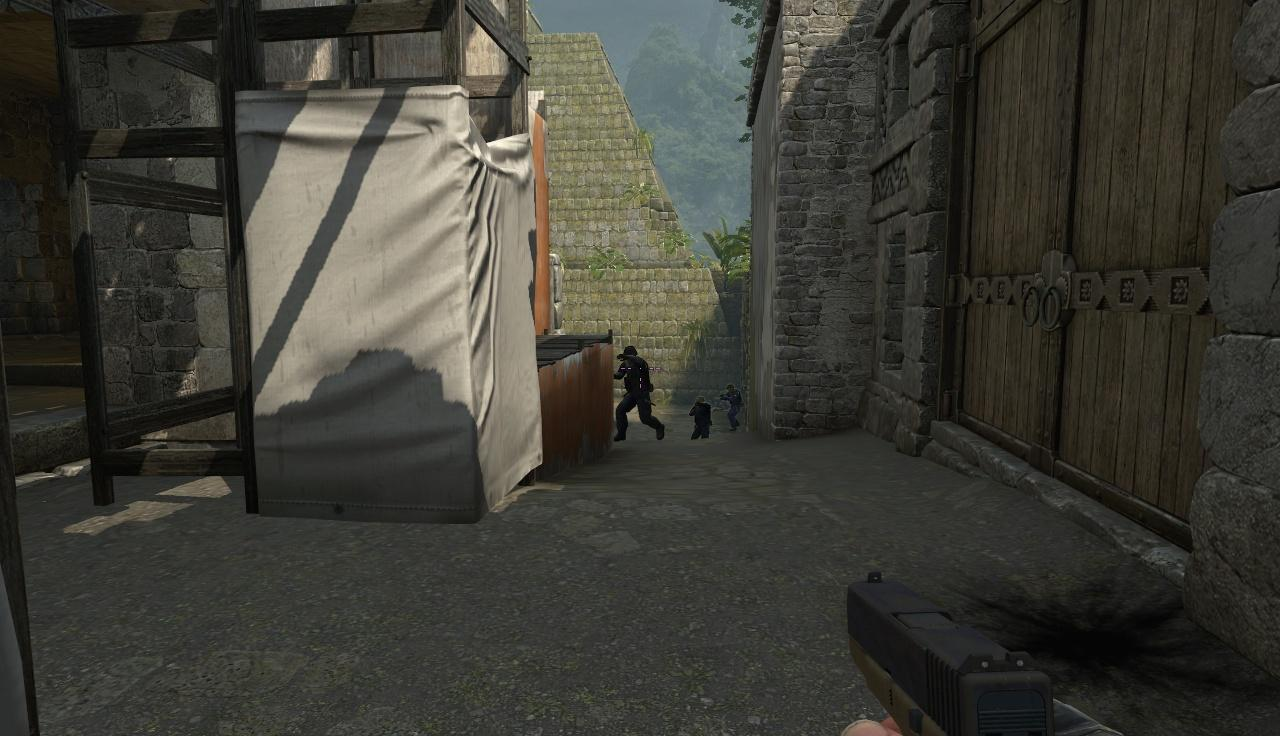ct: (612, 345, 651, 445), (690, 397, 711, 439), (725, 384, 741, 430), (727, 384, 735, 393)
cthead: (622, 346, 640, 364), (696, 397, 705, 406)
pistol: (837, 574, 1078, 736)
